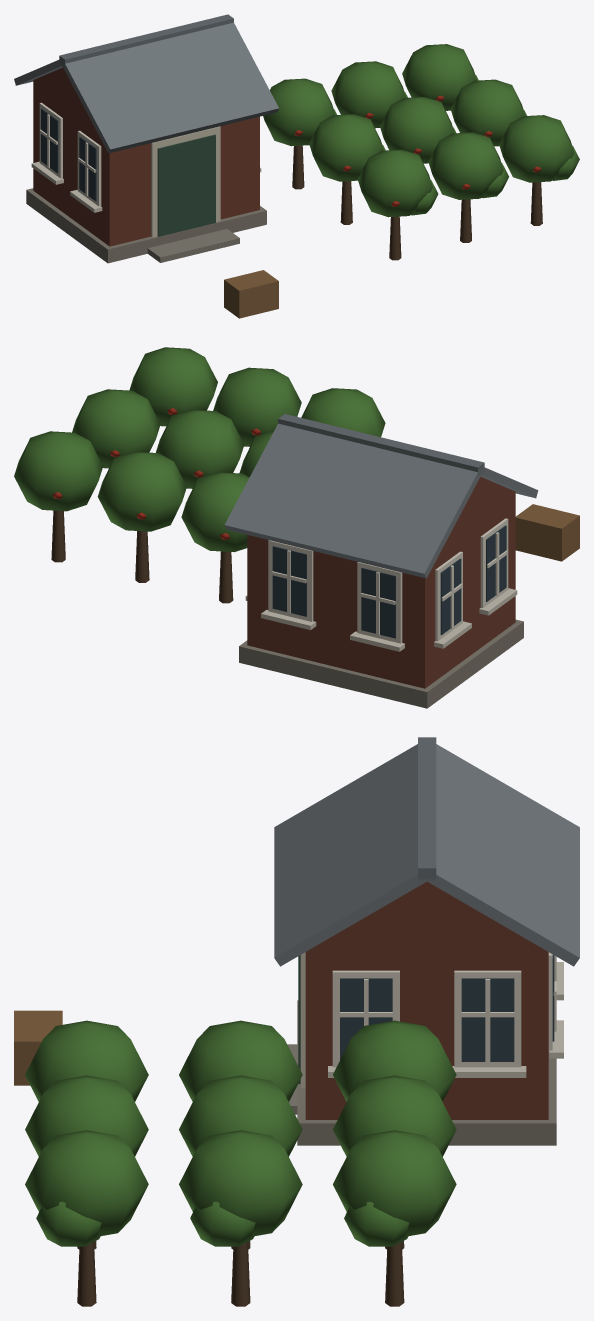
File: procedural_orchard@5.glb
3 renders of one model, top to bottom at view 1: azimuth 30°, elevation 25°; view 2: azimuth 150°, elevation 25°; view 3: azimuth 270°, elevation 25°, orthographic. The views are drawn at different scales.
Parts seen in each view (by area): view 1: part_0; view 2: part_0; view 3: part_0.
Part boxes in pixels (bbox=[...]): part_0: bbox=[14, 14, 579, 318]; part_0: bbox=[14, 347, 579, 708]; part_0: bbox=[14, 737, 579, 1306].
Size of the model in its own units: 9.07 by 3.83 by 6.99.
